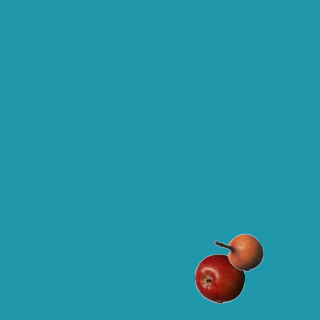Apple Braeburn: (194, 253, 244, 303)
Granadilla: (213, 227, 263, 277)
